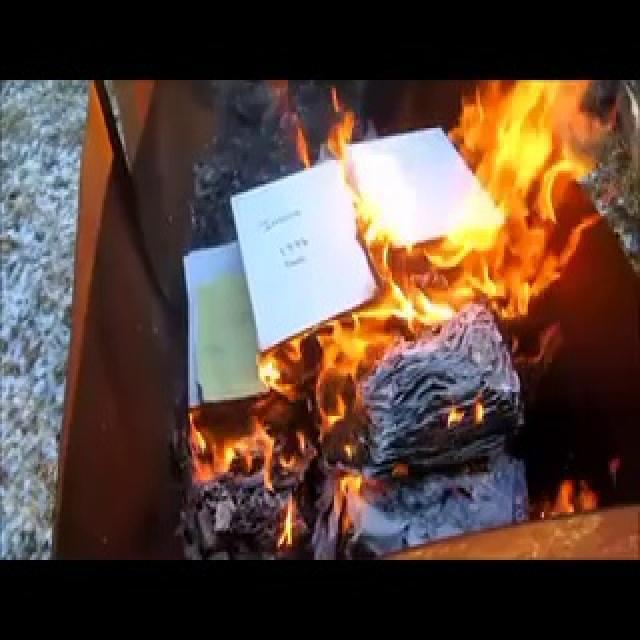fire: (267, 81, 595, 378), (182, 378, 320, 504)
